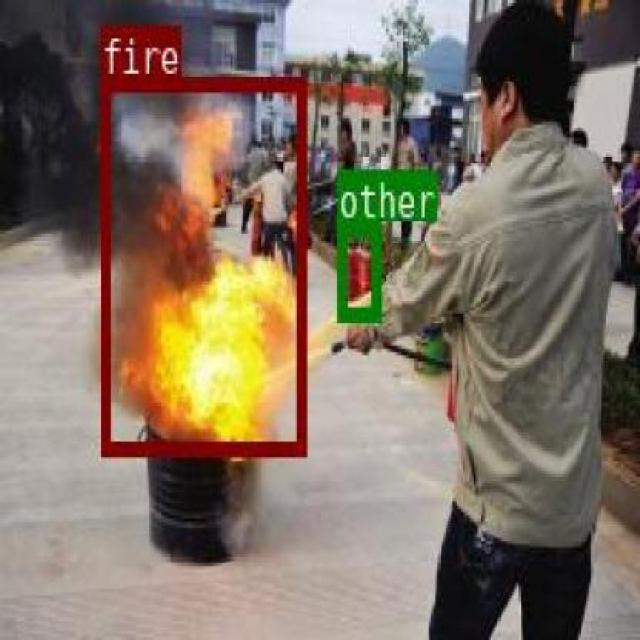Fire: (100, 76, 303, 453)
